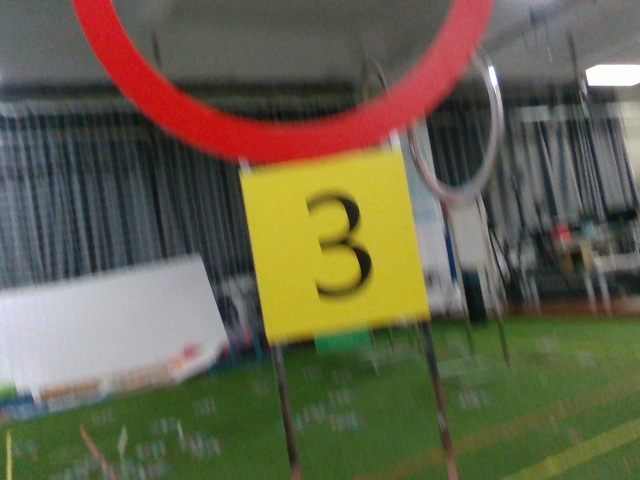target: (247, 166, 422, 325)
